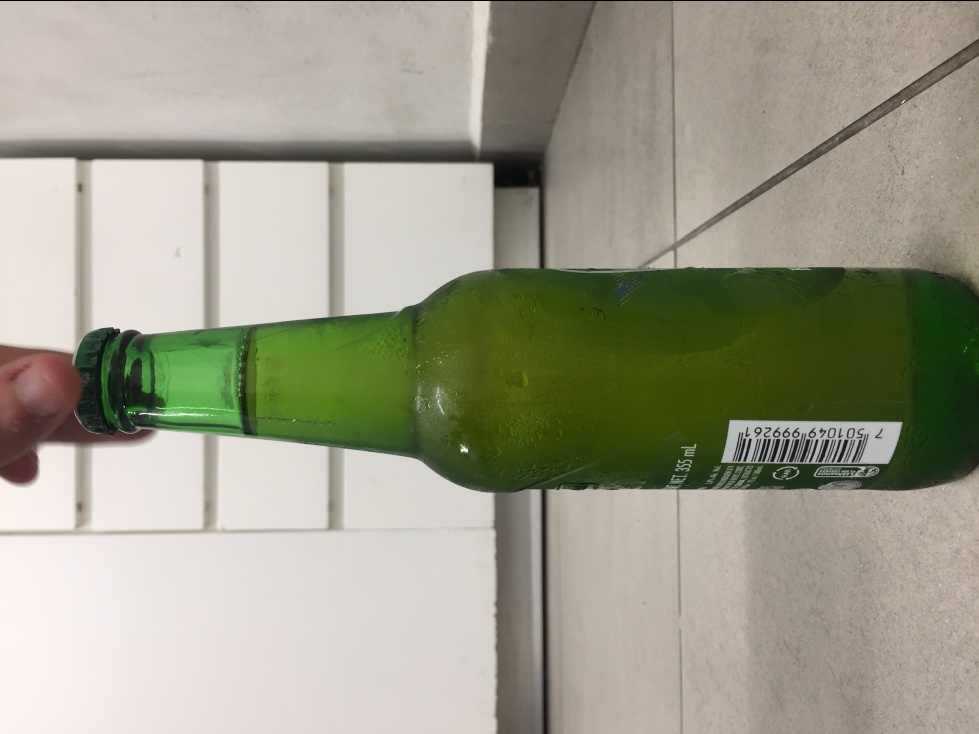heineken: (69, 262, 979, 498)
